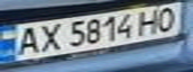1: (100, 14, 121, 43)
4: (115, 10, 139, 38)
5: (63, 18, 87, 47)
8: (84, 16, 106, 45)
A: (9, 25, 45, 56)
H: (133, 7, 166, 36)
O: (151, 4, 181, 33)
X: (33, 20, 66, 53)
